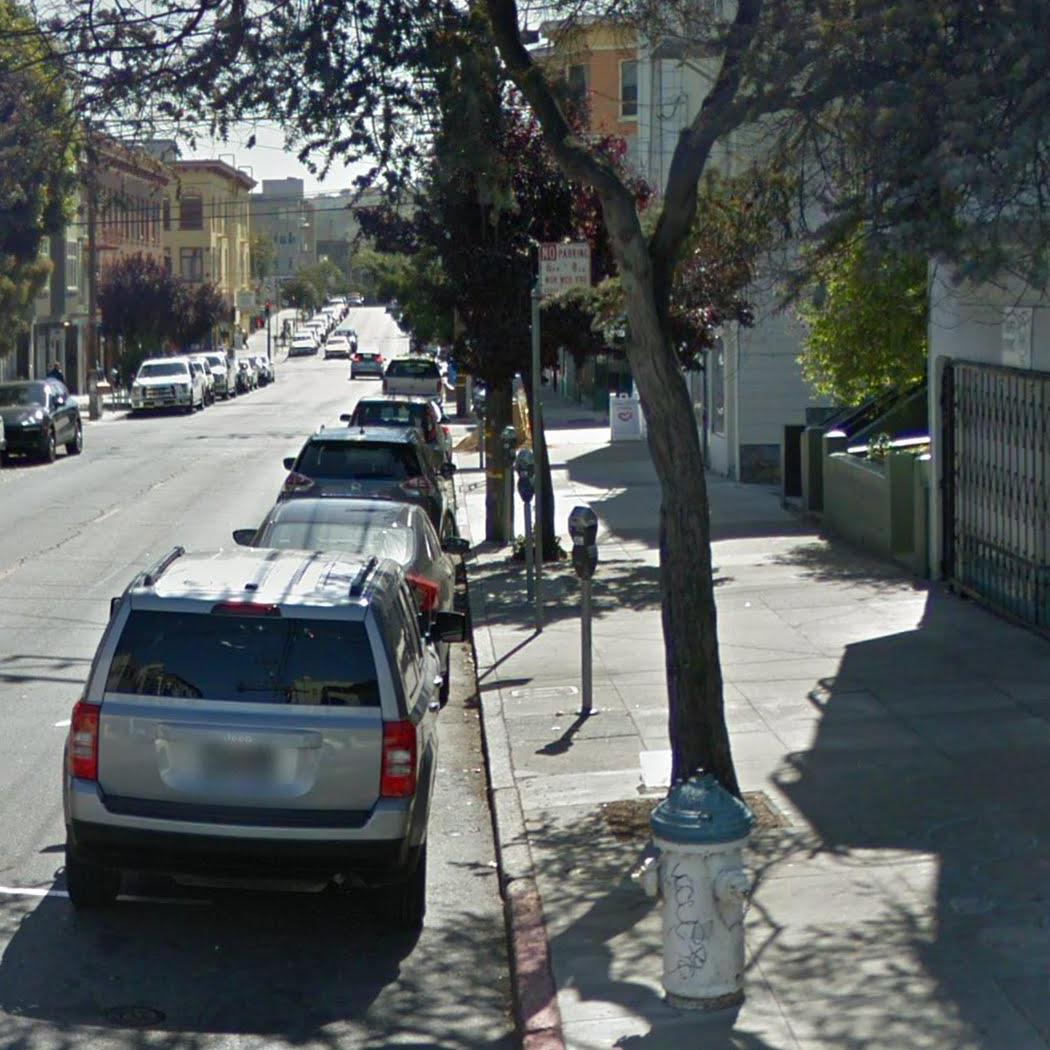No Parking: (536, 239, 593, 302)
